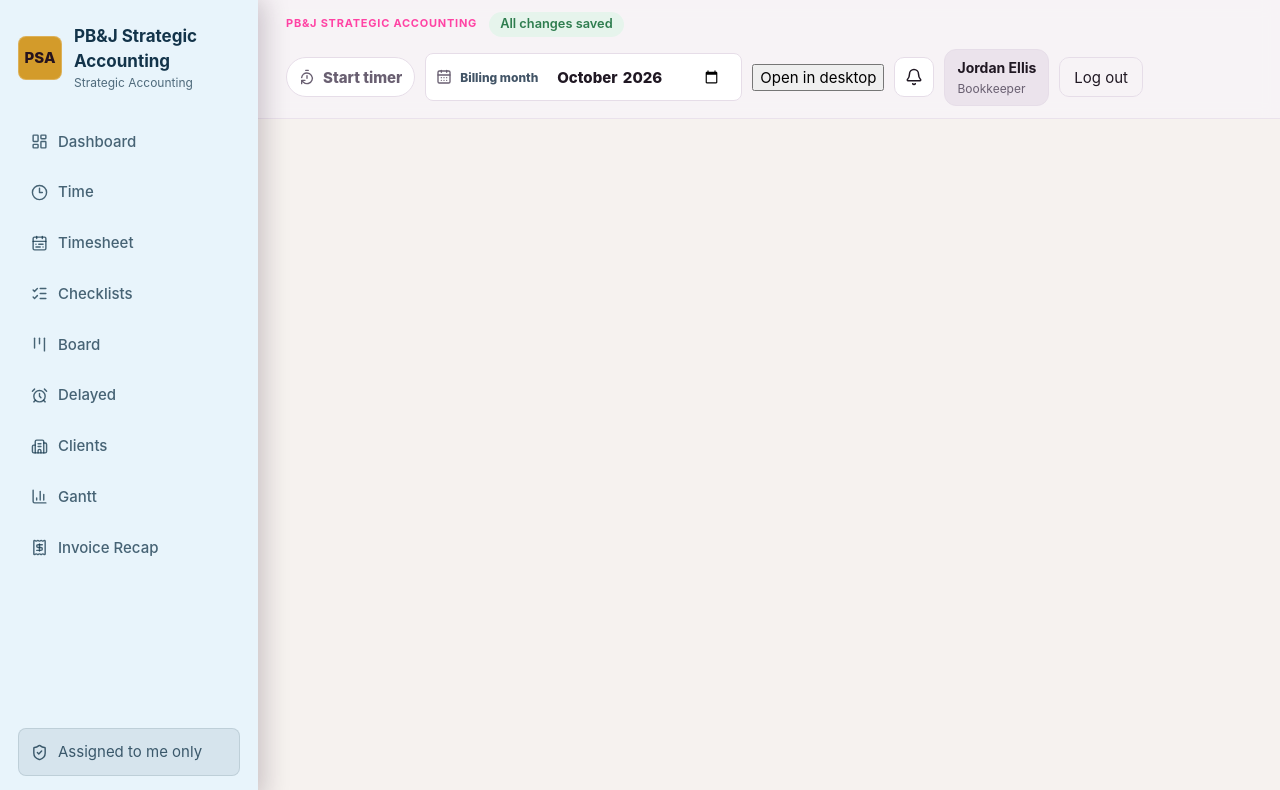
as a team member › "This + all future" files a series request, deletes nothing, and says it was sent
Expected: the navigation bar is shown, x1=31 y1=132 x2=158 y2=557
Click the link "Checklists" at (82, 293), box x1=31 y1=284 x2=133 y2=303
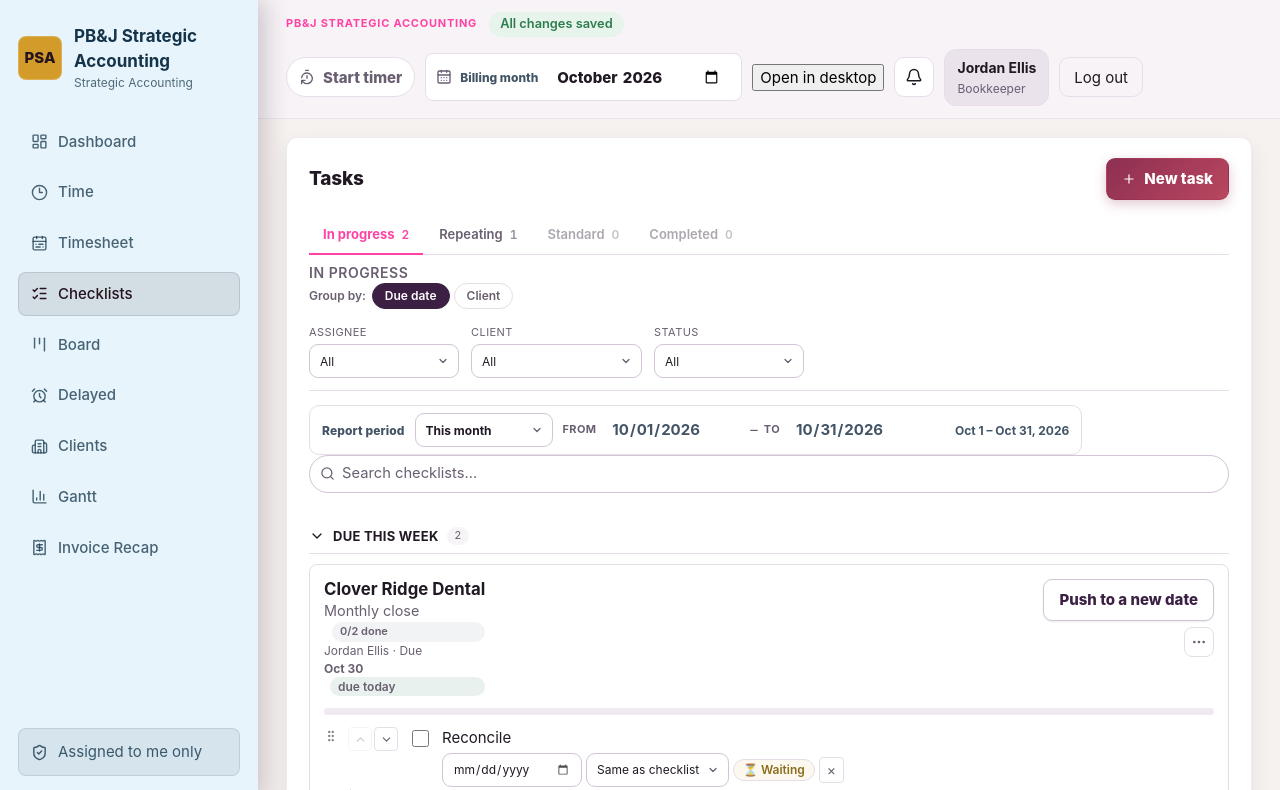
Expected: the link "Checklists" is marked as current, x1=18 y1=272 x2=240 y2=316
Click the button named "Delete item" at (831, 770), box x1=819 y1=757 x2=844 y2=783
(page scrolled)
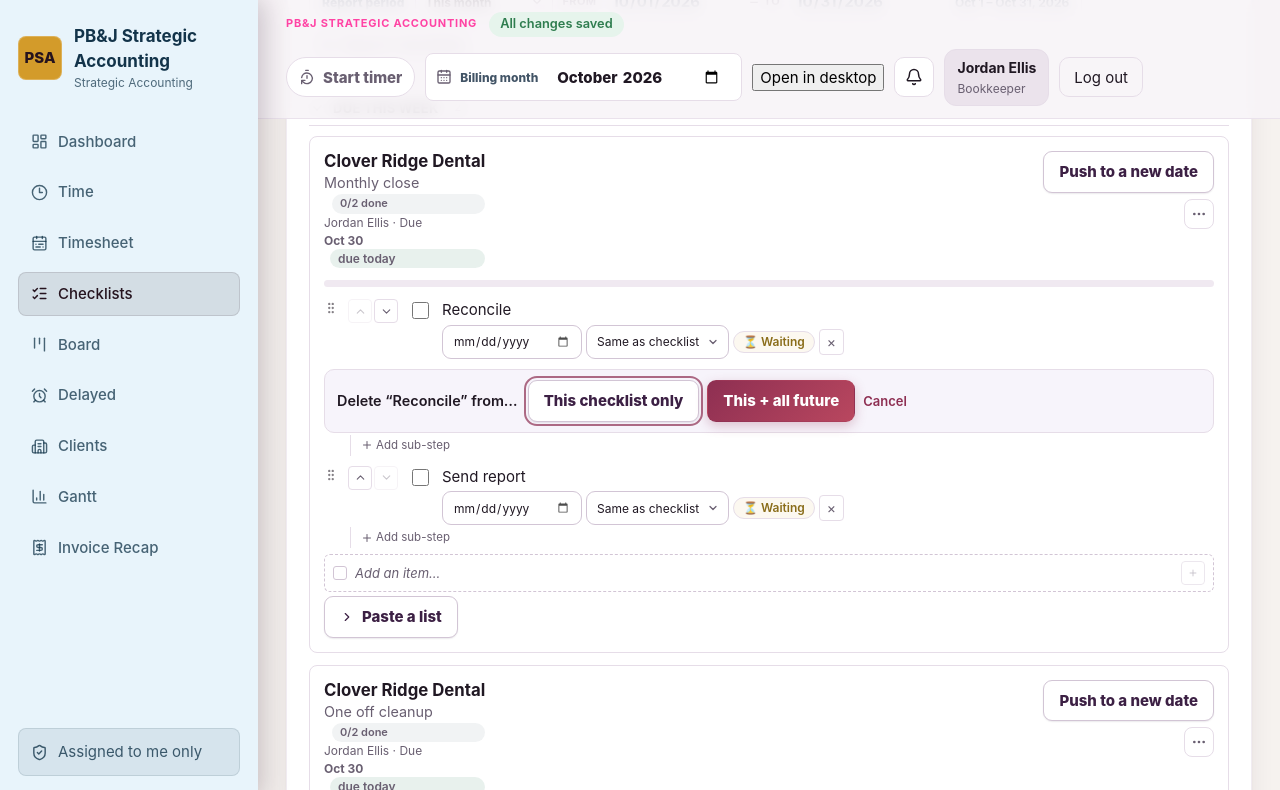
Click the button "This + all future" at (781, 401), box x1=707 y1=380 x2=855 y2=422
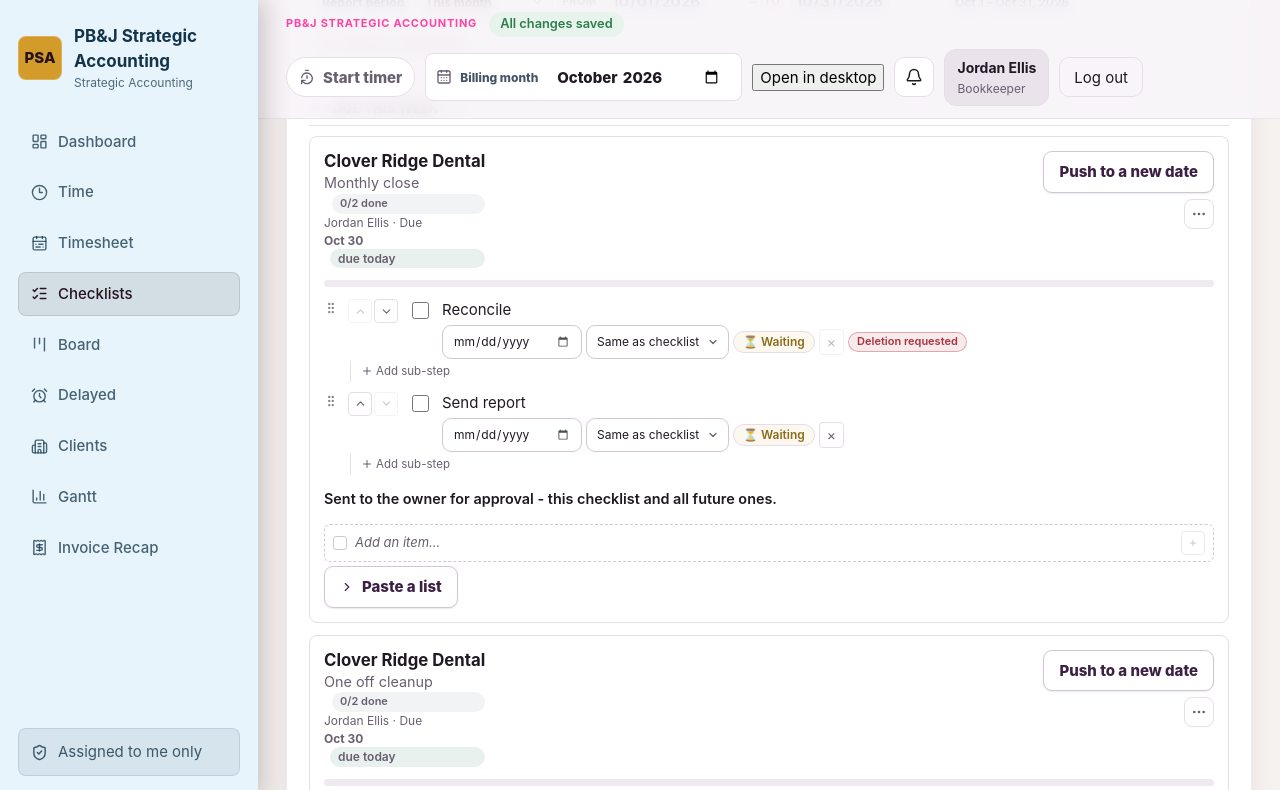
Expected: the text "Reconcile" below "Monthly close" is shown, x1=442 y1=300 x2=511 y2=319
Expected: the text "Sent to the owner for approval - this checklist and all future ones." is shown, x1=324 y1=490 x2=777 y2=507
